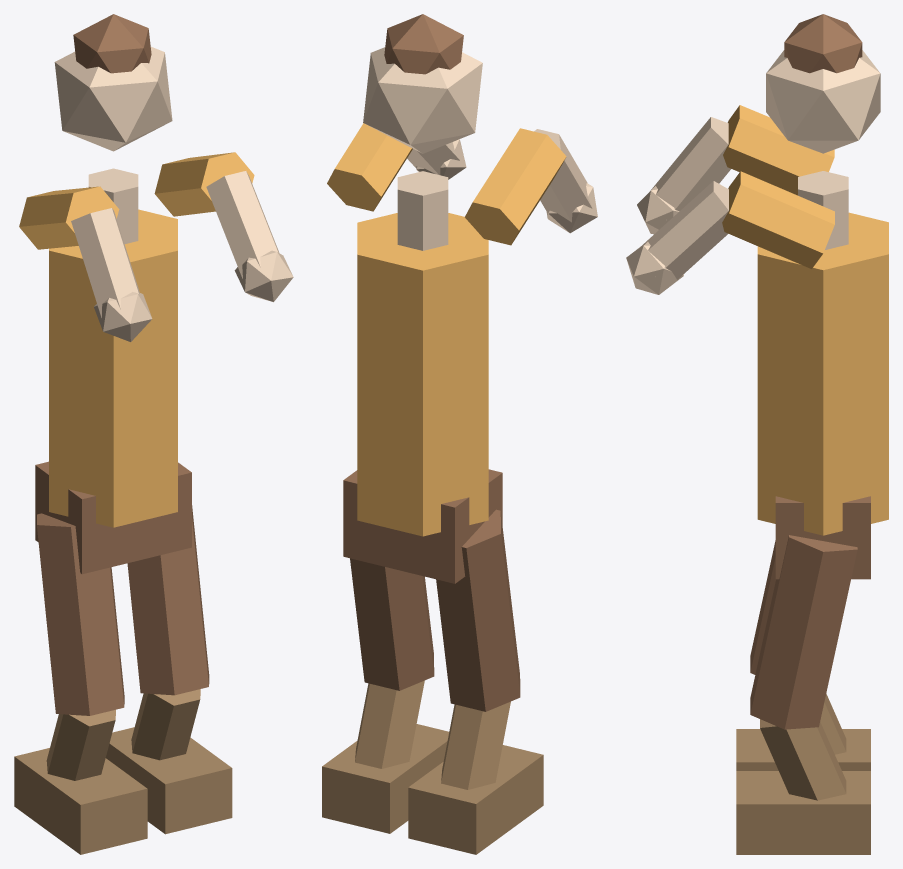
Rendered from pose_idle_11.glb.
3 views of the same model, side by side, from view 1: azimuth 30°, elevation 25°; view 2: azimuth 150°, elevation 25°; view 3: azimuth 270°, elevation 25° (orthographic).
Parts seen in each view (by area): view 1: pose; view 2: pose; view 3: pose.
Part boxes in pixels (box(x1,y1,x2,y2)): pose: box(14, 14, 293, 854); pose: box(322, 14, 597, 854); pose: box(626, 14, 888, 854).
Size of the model in its own units: 0.3955 by 1.58 by 0.4687.
